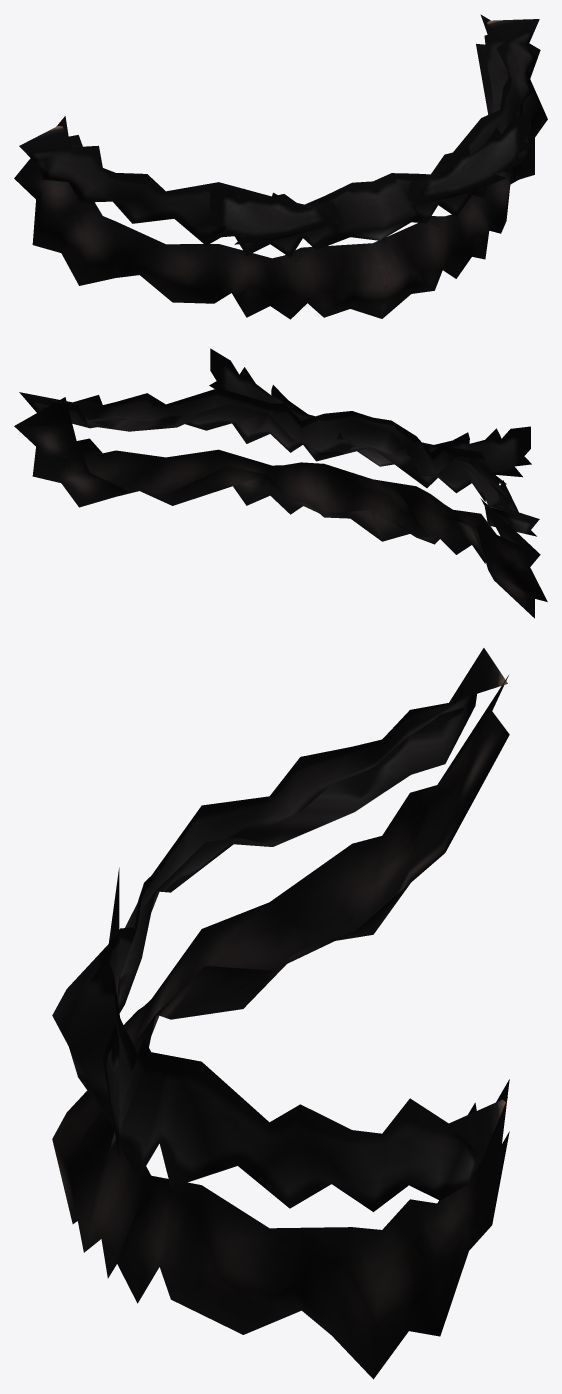
The model's file is m_b_jangbi.FBX.
3 views of the same model, one above another, from view 1: azimuth 30°, elevation 25°; view 2: azimuth 150°, elevation 25°; view 3: azimuth 270°, elevation 25° (orthographic). The views are drawn at different scales.
Visible parts, largest first — view 1: beard; view 2: beard; view 3: beard.
Part boxes in pixels (x1,y1,x2,y2): beard: [14, 14, 547, 319]; beard: [14, 348, 547, 618]; beard: [52, 648, 509, 1379].
Bounding box in the file's own units: 9.6 × 3.03 × 3.61.
